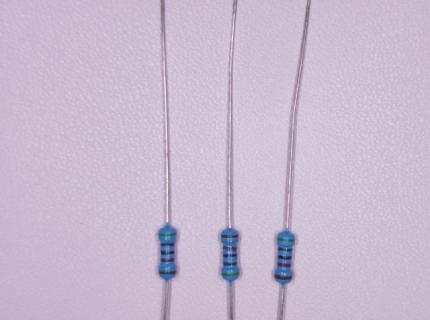Black band: (278, 255, 292, 260), (161, 250, 174, 254), (223, 254, 237, 257)
Brown band: (275, 274, 292, 280), (159, 270, 176, 275), (221, 234, 239, 238), (278, 247, 292, 252), (224, 262, 237, 266), (161, 243, 175, 246)
Green band: (277, 237, 295, 242), (159, 232, 176, 237), (222, 272, 239, 276)
Red band: (277, 262, 291, 267), (223, 246, 237, 250), (161, 258, 174, 262)
